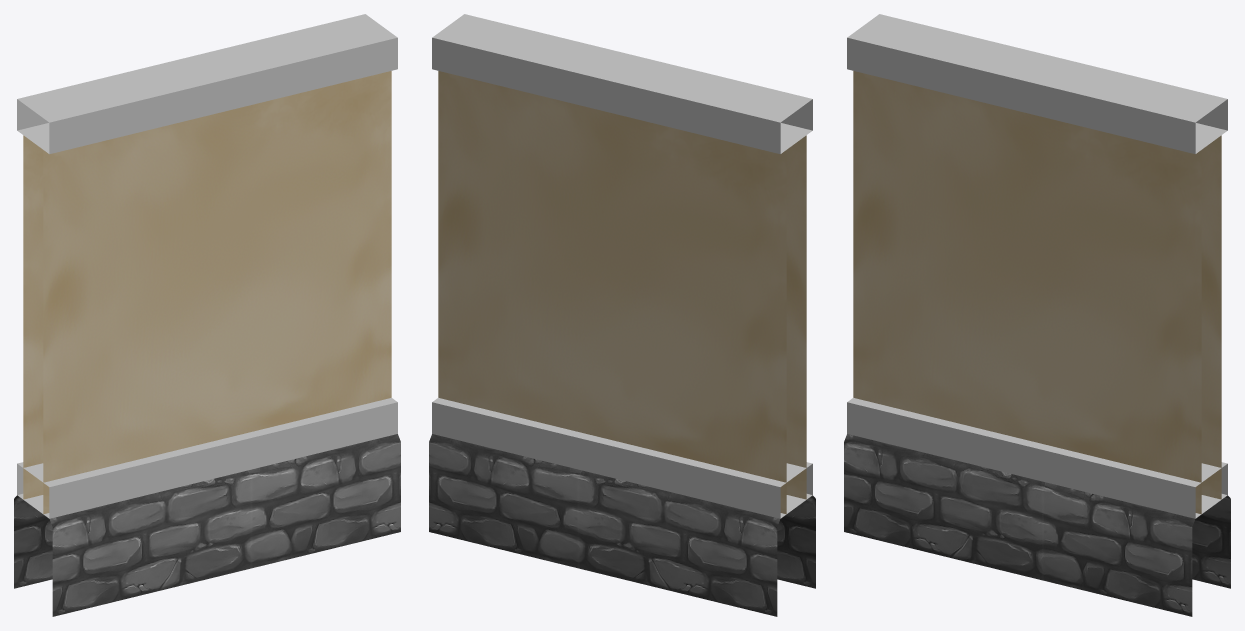
Rendered from MOD_rock_wall_02.fbx.
3 views of the same model, side by side, from view 1: azimuth 30°, elevation 25°; view 2: azimuth 150°, elevation 25°; view 3: azimuth 330°, elevation 25° (orthographic).
Parts seen in each view (by area): view 1: rock_wall_02; view 2: rock_wall_02; view 3: rock_wall_02.
Boxes of the visible parts, x1=… form: rock_wall_02: x1=14, y1=14, x2=400, y2=616; rock_wall_02: x1=429, y1=14, x2=815, y2=616; rock_wall_02: x1=844, y1=14, x2=1230, y2=616.
Bounding box in the file's own units: 118 × 22.62 × 159.
